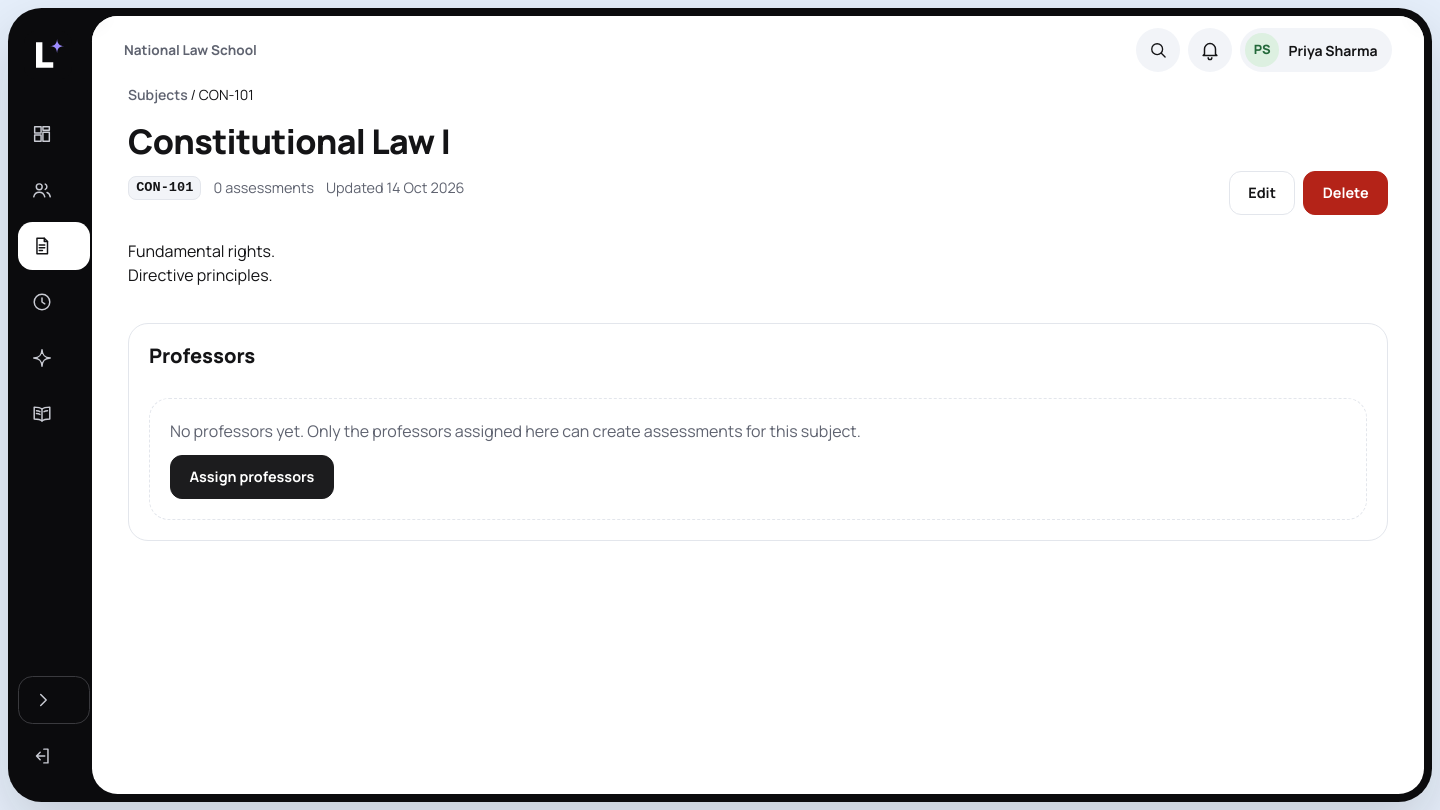
subjects (C_ADMIN) › explains SUBJECT_IN_USE and offers Rename instead
Click the button "Delete": (1346, 193) [1303, 171, 1388, 215]
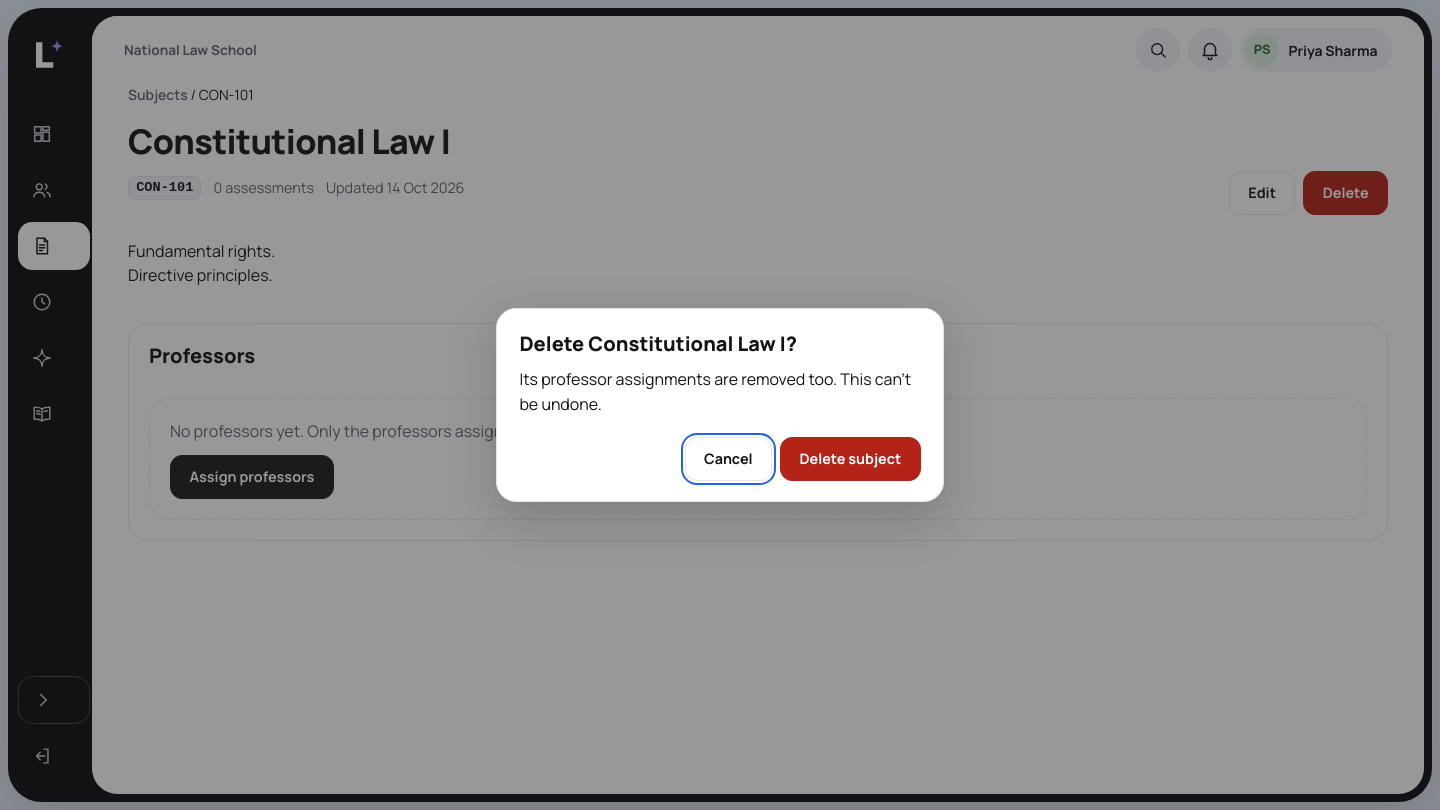
Click the button "Delete subject": (850, 459) [780, 437, 921, 481]
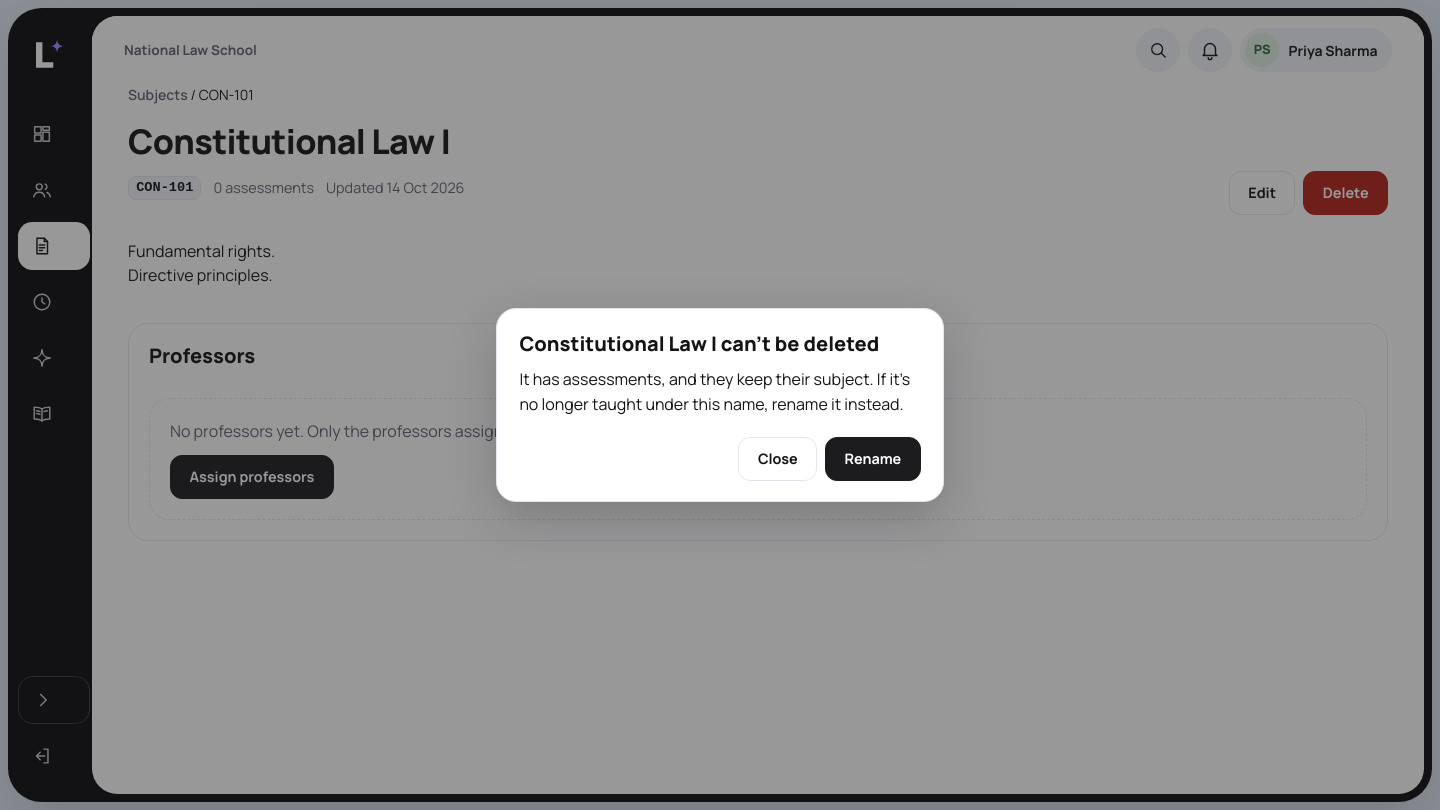
Click the button "Rename": (873, 459) [825, 437, 921, 481]
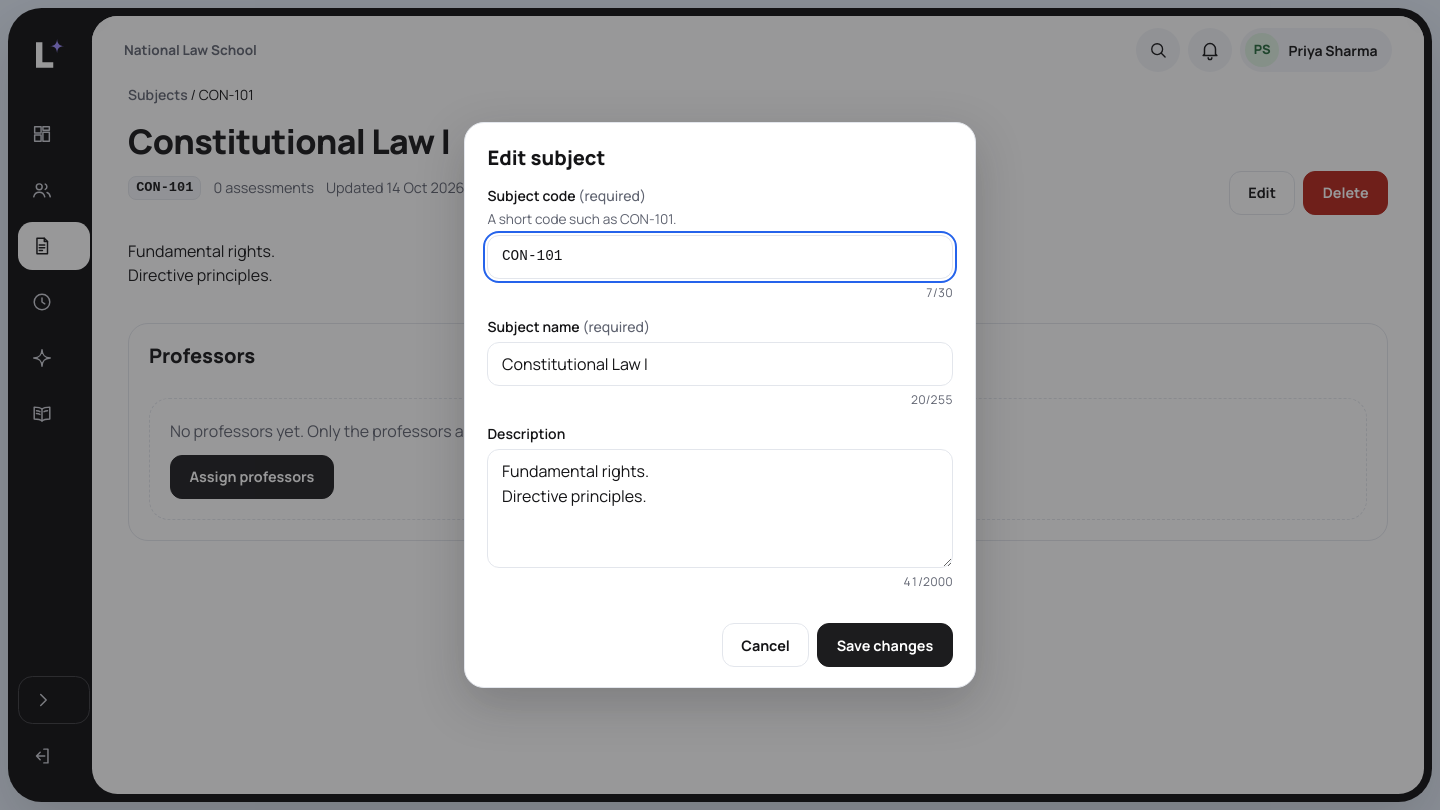
Check: the dialog "Edit subject" is shown, box [464, 122, 976, 688]
